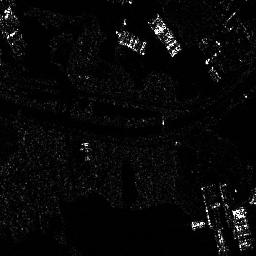ship: (114, 27, 147, 56)
